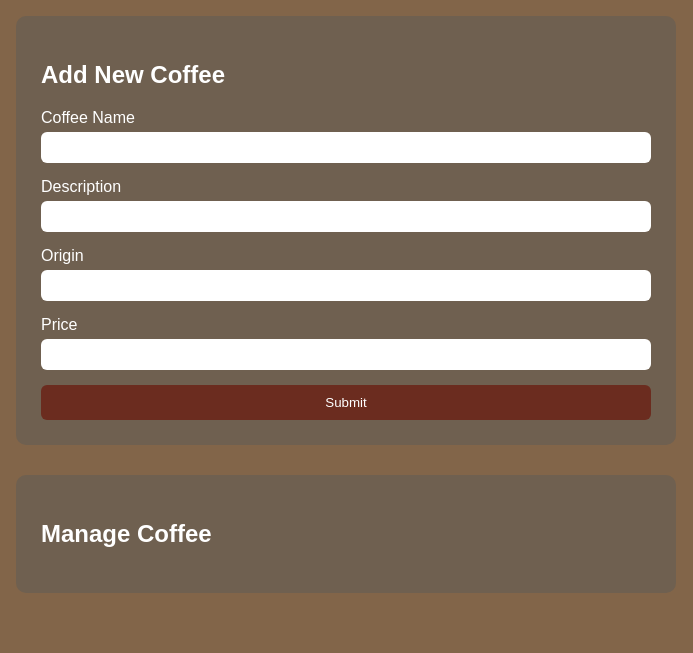
Scenario: adds a new coffee when the form is filled
In the field labelled "Coffee Name": x=346, y=147 [41, 132, 651, 163], type "Test Coffee"
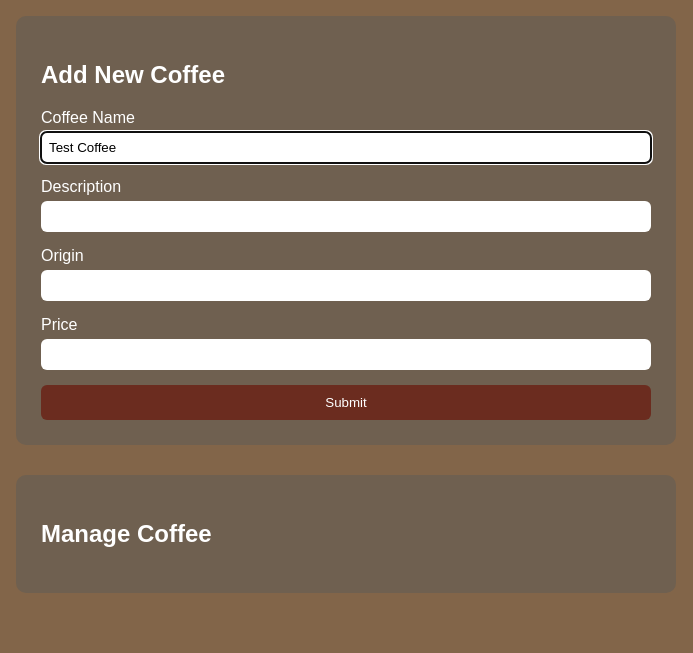
In the field labelled "Description": x=346, y=216 [41, 201, 651, 232], type "Tasty"
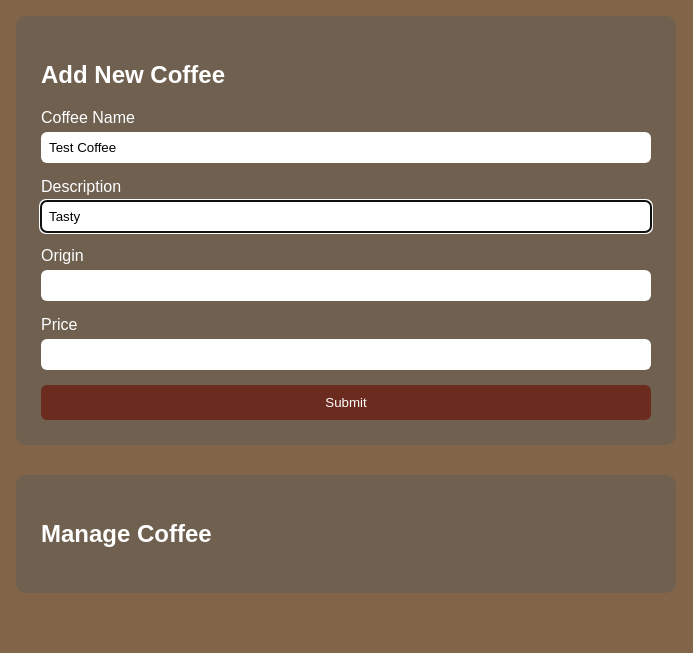
In the field labelled "Origin": x=346, y=285 [41, 270, 651, 301], type "Kenya"
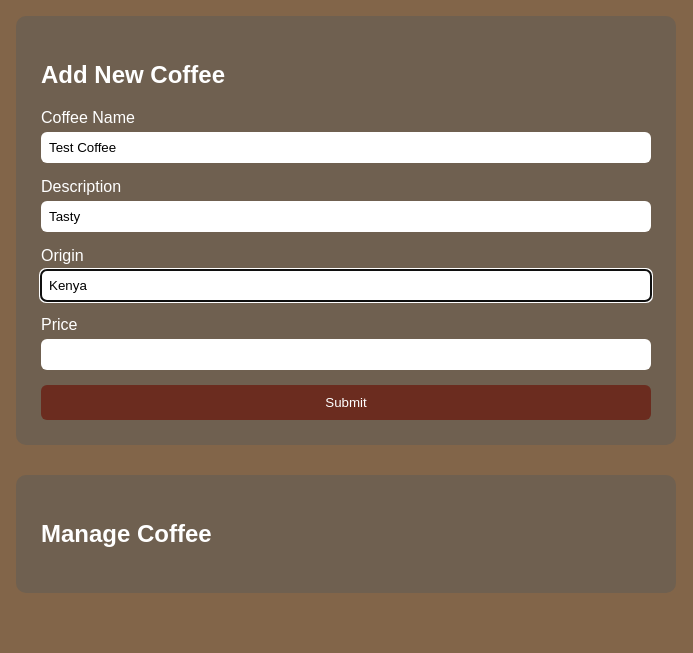
In the number field labelled "Price": x=346, y=354 [41, 339, 651, 370], type "9"
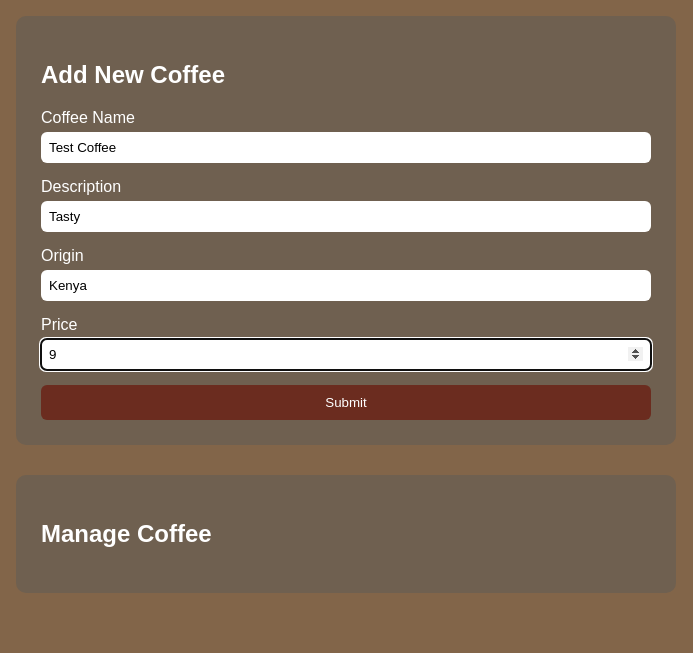
Click the button "Submit": x=346, y=402 [41, 385, 651, 420]
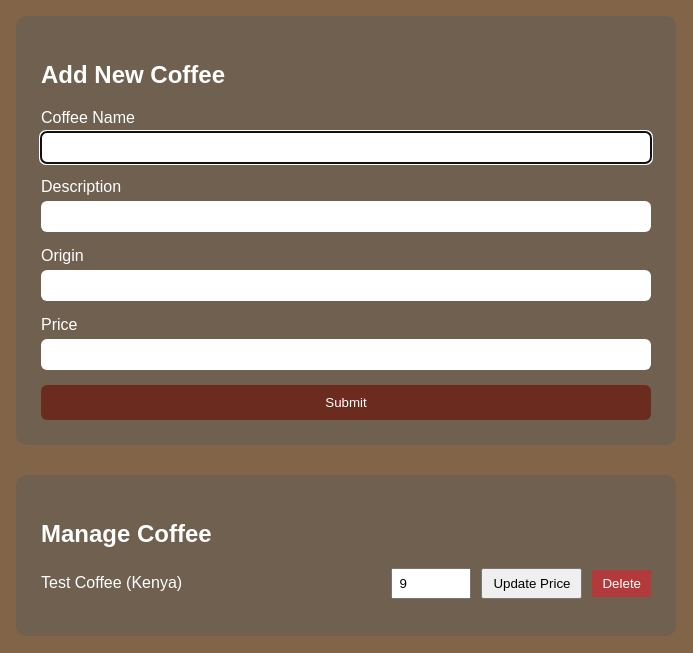
expect the text "Test Coffee (Kenya)" is shown: met, box [41, 574, 182, 591]
